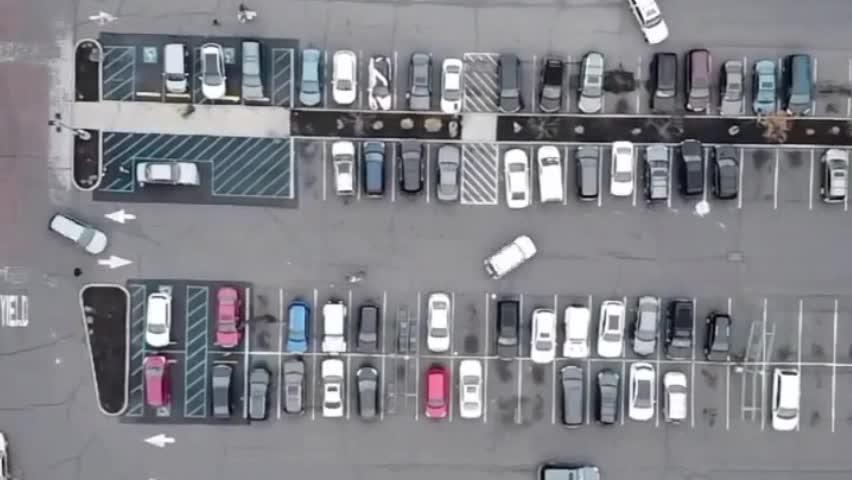car: (481, 232, 538, 289), (48, 212, 106, 258), (453, 359, 491, 426), (769, 366, 804, 436), (783, 56, 819, 121), (646, 52, 681, 117), (498, 150, 533, 215), (133, 159, 204, 191), (629, 0, 676, 47), (683, 48, 714, 117), (710, 150, 746, 209), (315, 360, 348, 424), (559, 364, 591, 430), (630, 364, 664, 426), (327, 139, 360, 202), (676, 142, 709, 205), (593, 369, 625, 432), (493, 299, 524, 364), (496, 54, 527, 118), (535, 147, 568, 207), (529, 309, 563, 367), (668, 297, 699, 360), (662, 371, 693, 434), (571, 143, 603, 204), (213, 285, 243, 350), (424, 285, 453, 350), (580, 53, 608, 120), (353, 364, 384, 424), (423, 364, 454, 424), (562, 303, 594, 361), (199, 45, 232, 101), (598, 300, 628, 361), (433, 144, 462, 206), (821, 153, 852, 211), (395, 141, 425, 200), (358, 139, 387, 200), (321, 301, 352, 358), (333, 50, 362, 110), (406, 50, 435, 110), (247, 365, 275, 427), (161, 42, 192, 98), (645, 145, 674, 204), (141, 356, 170, 415), (238, 44, 267, 102), (753, 63, 782, 121), (706, 311, 736, 367), (210, 362, 237, 424), (145, 292, 173, 351), (297, 48, 324, 109), (539, 57, 565, 120), (439, 56, 466, 116), (634, 295, 659, 359), (538, 455, 602, 480), (369, 54, 397, 111), (283, 359, 310, 418), (612, 143, 638, 204), (283, 302, 312, 355), (720, 55, 745, 116), (358, 305, 382, 358)
